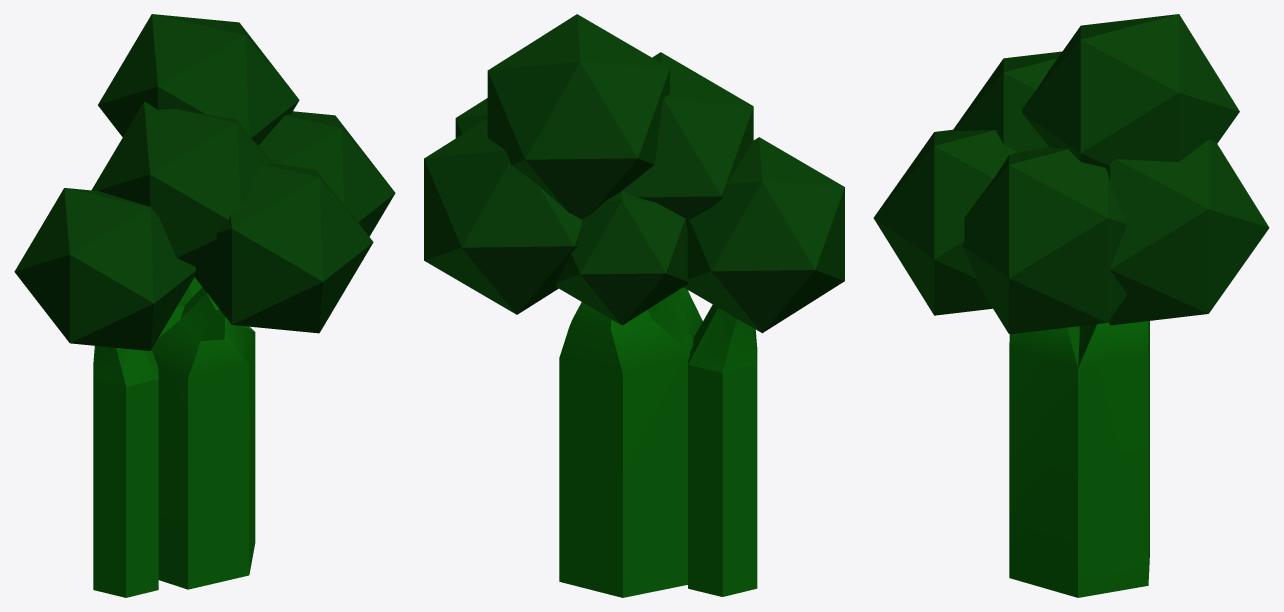
The model's file is Broccoli.fbx.
The picture shows the model from 3 angles, left to right: view 1: azimuth 30°, elevation 25°; view 2: azimuth 150°, elevation 25°; view 3: azimuth 270°, elevation 25°; orthographic projection. The views are drawn at different scales.
Visible parts, largest first — view 1: pCylinder1, pPlatonic2, pPlatonic3, pCylinder2, pPlatonic4, pPlatonic7, pPlatonic5; view 2: pCylinder1, pPlatonic7, pPlatonic3, pPlatonic6, pCylinder2, pPlatonic1, pPlatonic4, pPlatonic5; view 3: pCylinder1, pPlatonic5, pPlatonic7, pPlatonic6, pPlatonic2, pPlatonic4.
Part boxes in pixels (<box>): pCylinder1: <box>151,277,255,589</box>; pPlatonic2: <box>194,162,373,333</box>; pPlatonic3: <box>14,188,196,350</box>; pCylinder2: <box>93,346,158,597</box>; pPlatonic4: <box>92,102,271,266</box>; pPlatonic7: <box>98,14,299,145</box>; pPlatonic5: <box>258,111,395,236</box>; pCylinder1: <box>559,287,702,597</box>; pPlatonic7: <box>487,14,669,219</box>; pPlatonic3: <box>683,137,844,333</box>; pPlatonic6: <box>424,118,581,314</box>; pCylinder2: <box>688,304,757,596</box>; pPlatonic1: <box>556,191,688,325</box>; pPlatonic4: <box>621,52,753,228</box>; pPlatonic5: <box>455,98,487,137</box>; pCylinder1: <box>1009,321,1149,597</box>; pPlatonic5: <box>962,147,1127,334</box>; pPlatonic7: <box>1022,14,1239,167</box>; pPlatonic6: <box>1105,140,1269,325</box>; pPlatonic2: <box>873,129,1017,315</box>; pPlatonic4: <box>953,51,1062,152</box>.
Bounding box in the file's own units: 5.19 × 7.31 × 4.74.
